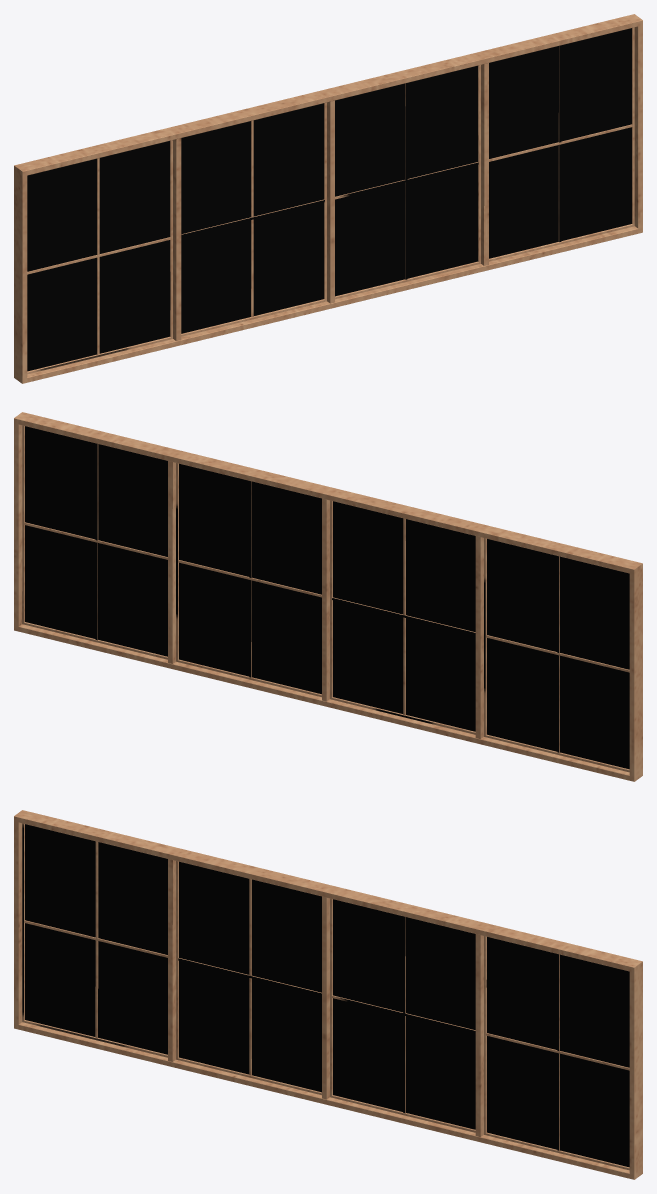
File: WindowFactory65507.spawn_asset1.glb
The picture shows the model from 3 angles, top to bottom: view 1: azimuth 30°, elevation 25°; view 2: azimuth 150°, elevation 25°; view 3: azimuth 330°, elevation 25°; orthographic projection.
Parts seen in each view (by area): view 1: WindowFactory(65507).spawn_asset(1).001; view 2: WindowFactory(65507).spawn_asset(1).001; view 3: WindowFactory(65507).spawn_asset(1).001.
Part boxes in pixels (<box>): WindowFactory(65507).spawn_asset(1).001: <box>14,14,642,383</box>; WindowFactory(65507).spawn_asset(1).001: <box>14,412,642,781</box>; WindowFactory(65507).spawn_asset(1).001: <box>14,810,642,1179</box>.
Size of the model in its own units: 4.3 by 1.41 by 0.1041.
1 material, 1 textured.
